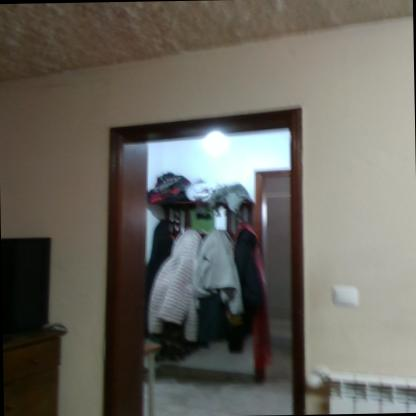open: (90, 92, 313, 416)
